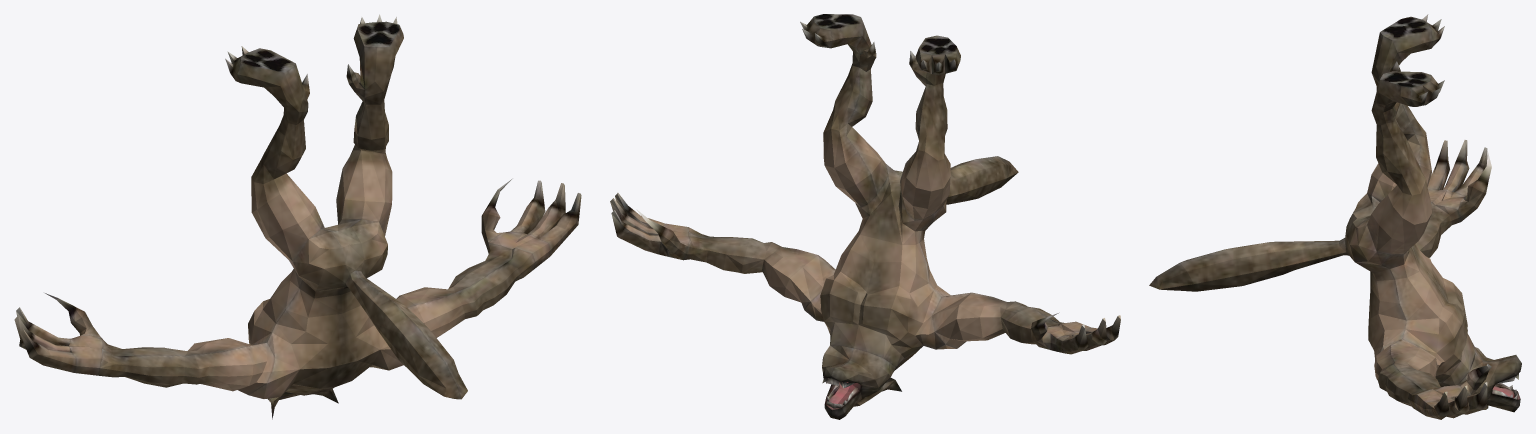
The model's file is werewolf.glb.
The picture shows the model from 3 angles, left to right: view 1: azimuth 30°, elevation 25°; view 2: azimuth 150°, elevation 25°; view 3: azimuth 270°, elevation 25°; orthographic projection. The views are drawn at different scales.
Visible parts, largest first — view 1: werewolf.obj; view 2: werewolf.obj; view 3: werewolf.obj.
Boxes of the visible parts, x1,y1,x2,y2 form: werewolf.obj: (14,14,581,419); werewolf.obj: (610,14,1120,419); werewolf.obj: (1149,14,1521,419).
Bounding box in the file's own units: 1 × 0.6575 × 0.6211.
1 material, 1 textured.
